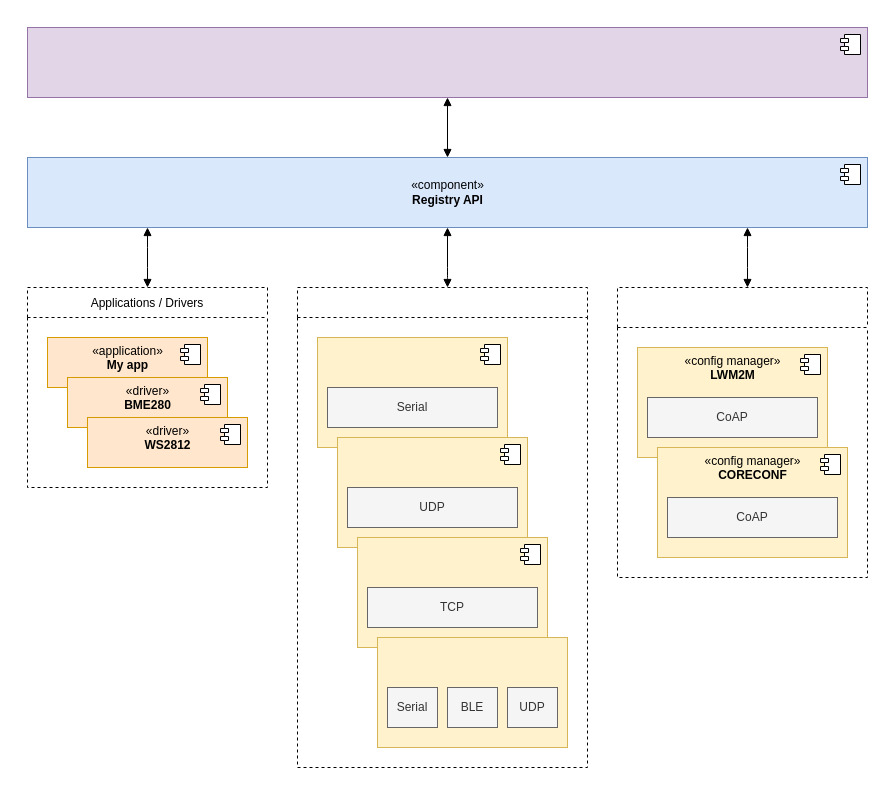
This 894x794 diagram has some shape labels left out. Here are the shapes that lost their labels. From the top down, the box of each, then its label:
(26, 26, 868, 98): «component» Runtime Configurations
(316, 336, 508, 448): «config manager» Config CLI (Riot Shell)
(616, 286, 868, 578): Advanced Configuration Managers with custom schemas
(336, 436, 528, 548): «config manager» CoAP
(296, 286, 588, 768): Basic Configuration Managers
(356, 536, 548, 648): «config manager» MQTT
(376, 636, 568, 748): «config manager» MCUMgr (mgmt)
